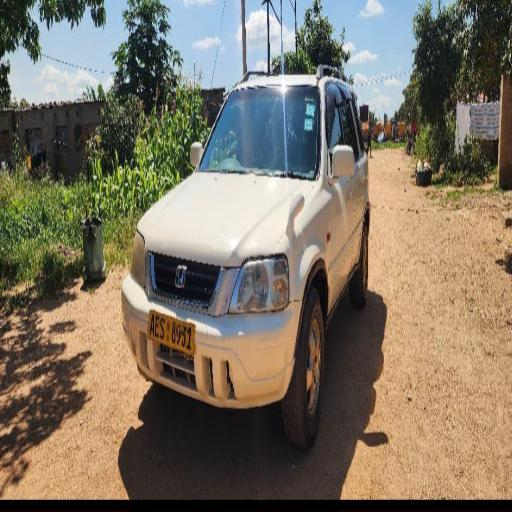number-plates: (148, 304, 194, 351)
